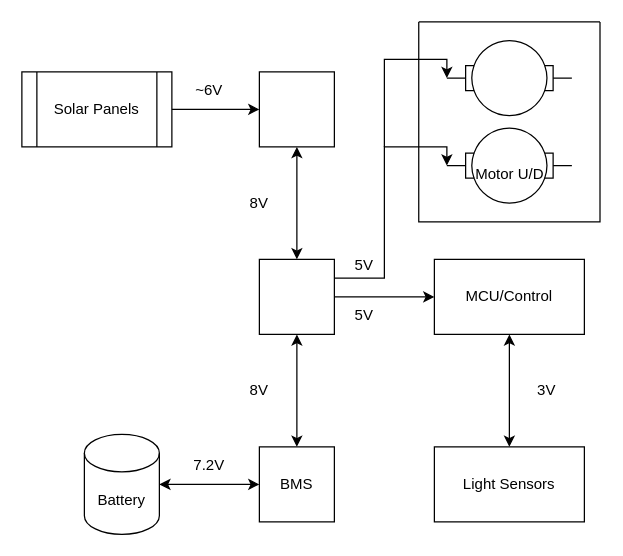
The diagram is 623 pixels wide and 556 high, and some of its shapes have lost their labels. Each missing label, with the centre of its shape:
Boost: point (296, 109)
Motor L/R: point (509, 77)
Regulator: point (296, 296)
